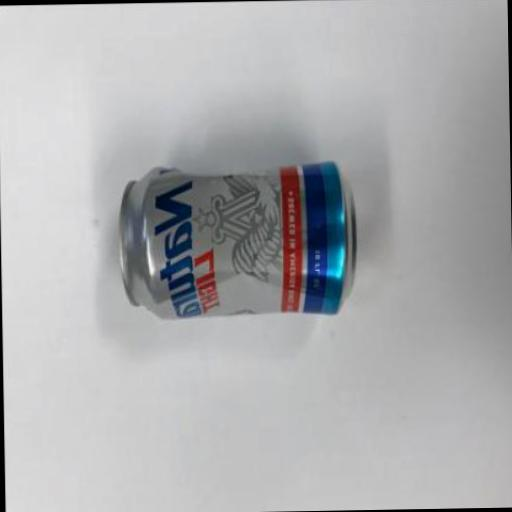metal: (114, 163, 358, 322)
